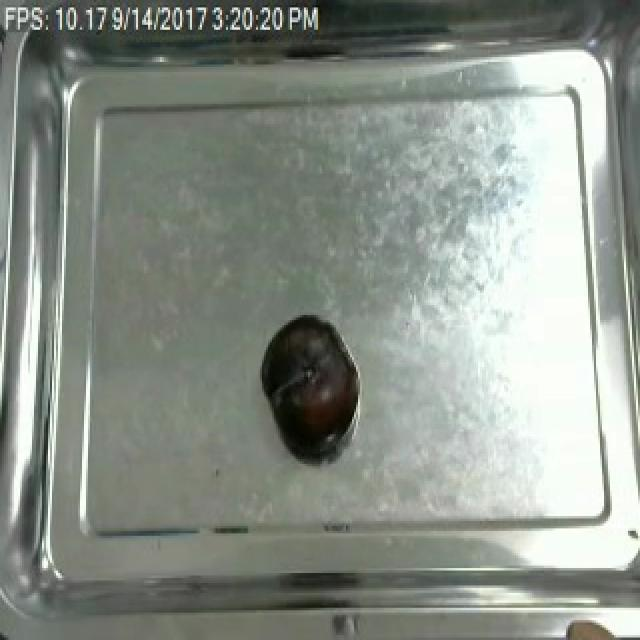Fruit: (256, 310, 358, 452), (554, 610, 638, 640)
